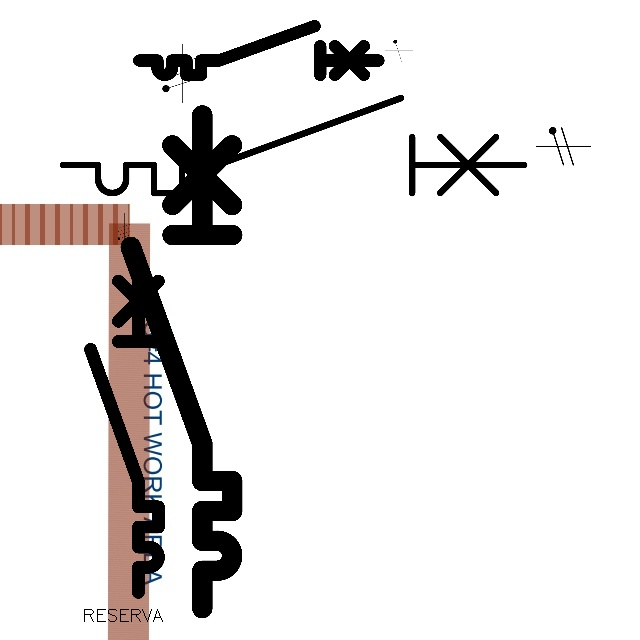interruptor_termomagnetico: (118, 102, 245, 620), (51, 86, 536, 205), (82, 252, 167, 600), (133, 20, 384, 81)
